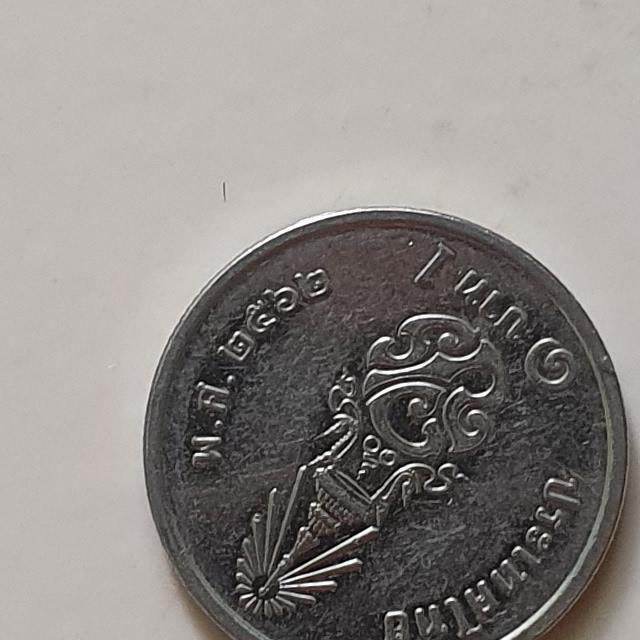1 Bath: (133, 201, 637, 640)
